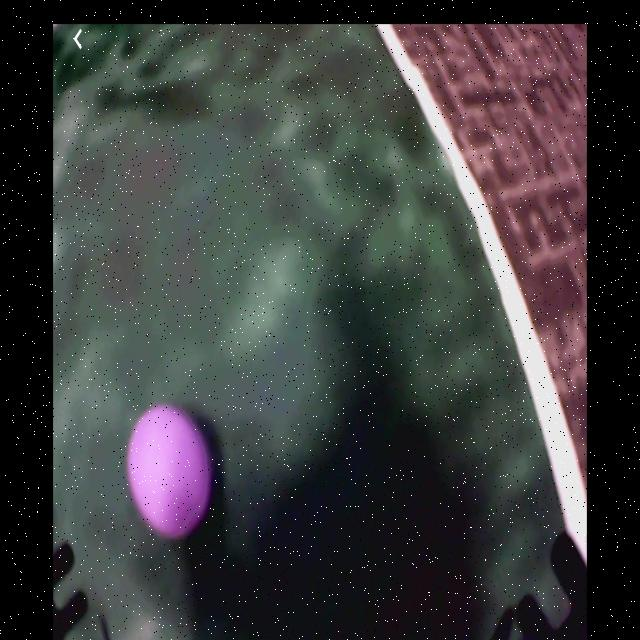ball: (127, 402, 211, 537)
